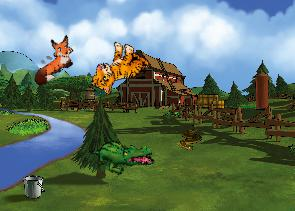crocodile: (88, 129, 156, 182)
fox: (21, 31, 83, 88)
tiger: (87, 35, 152, 104)
